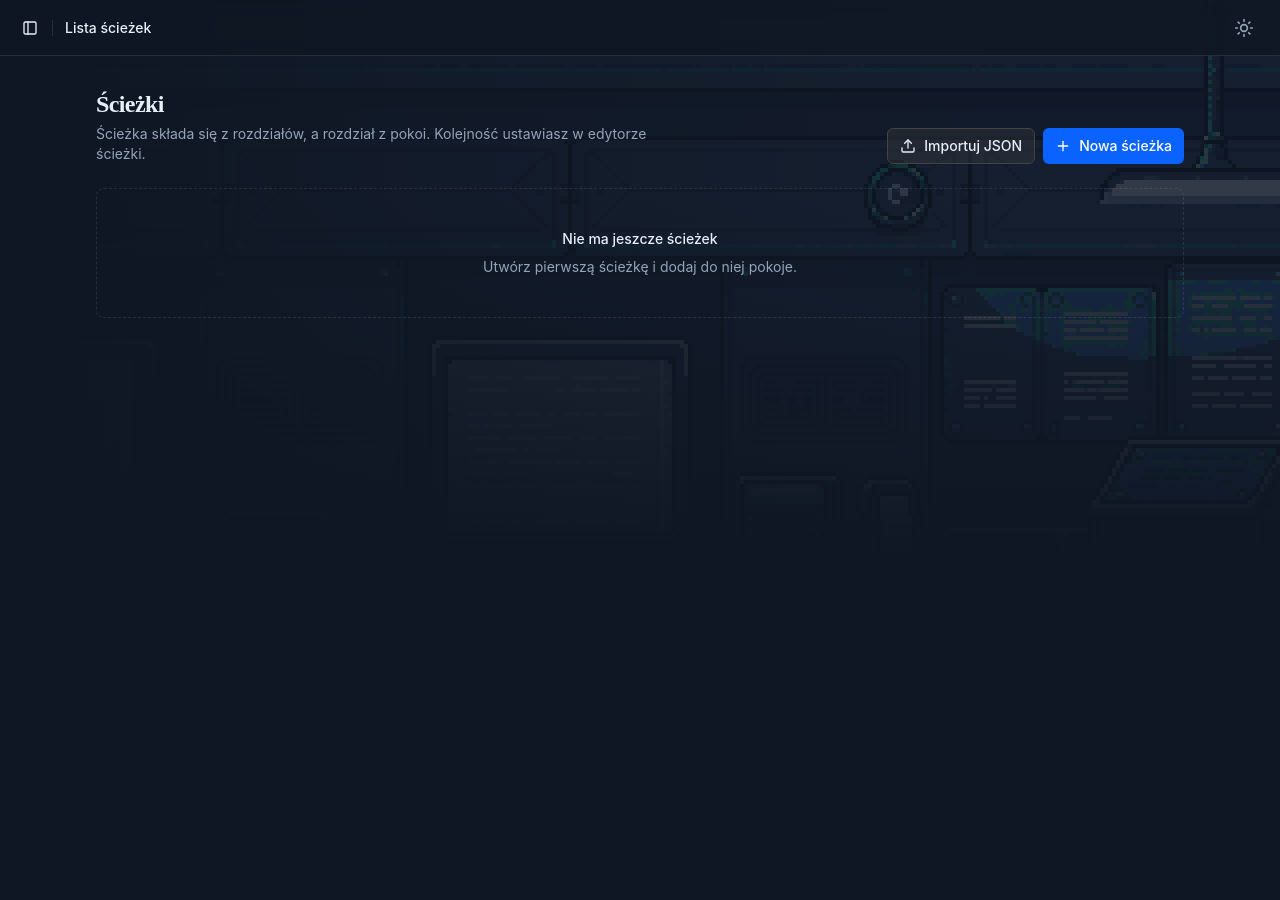
Test: draft editors and guarded navigation › opens new path directly in the complete editor and shows counters before typing
Click the link "Nowa ścieżka". click: (1114, 146)
box: top-left (1043, 128), bottom-right (1184, 164)
(page scrolled)
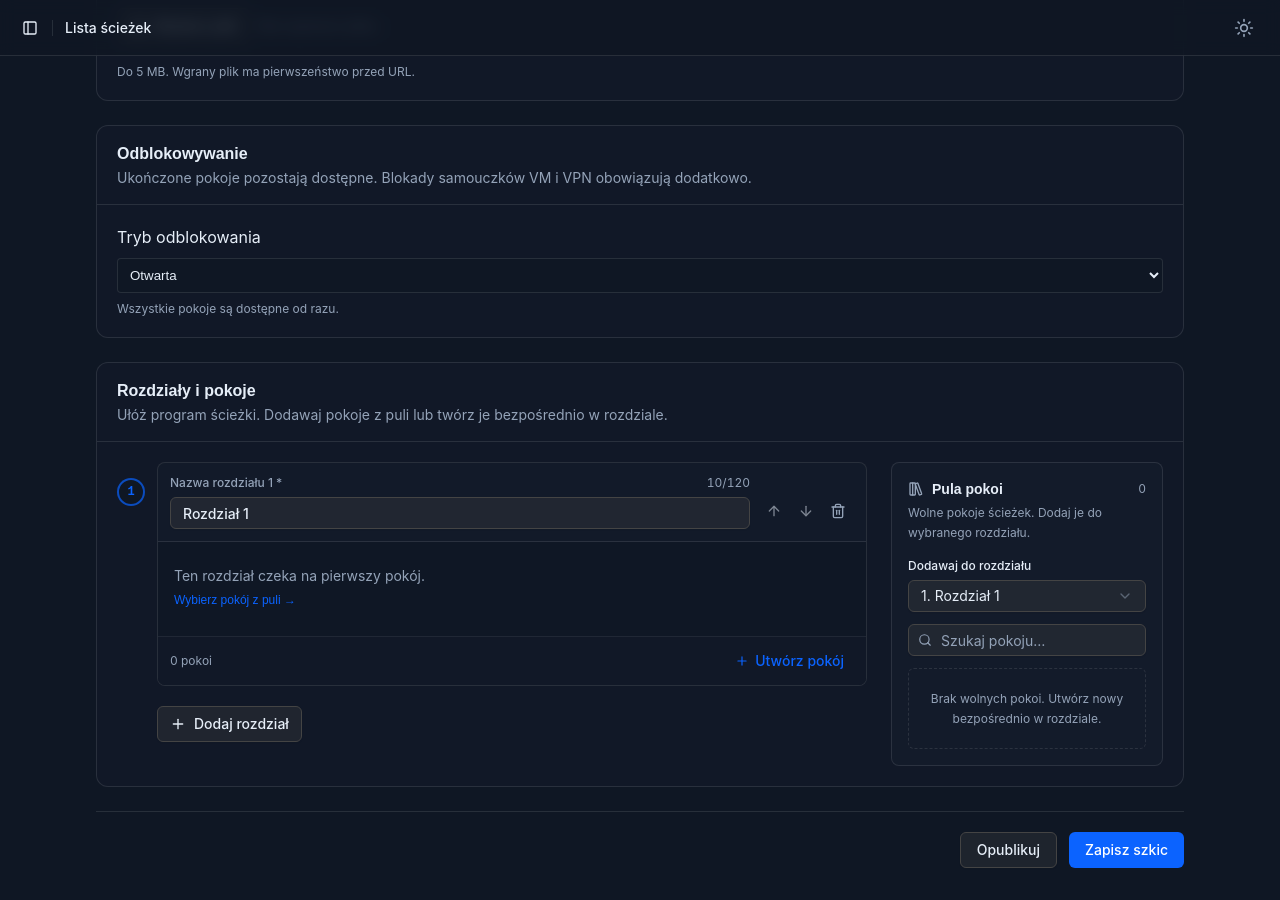
Expected: the button "Utwórz pokój" is shown, top-left (725, 645), bottom-right (854, 677)
